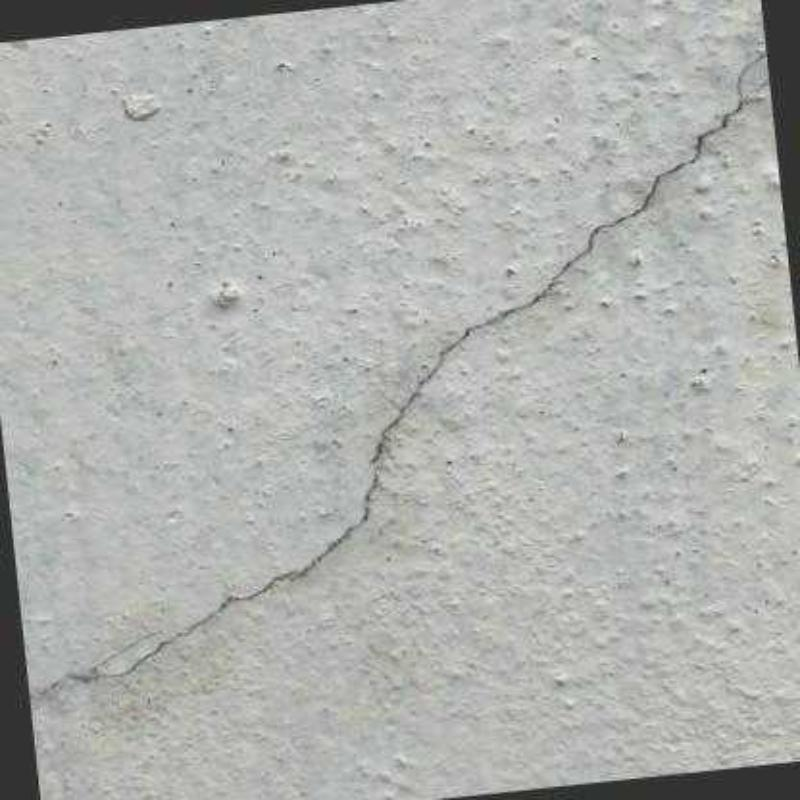crack: (28, 48, 766, 698)
